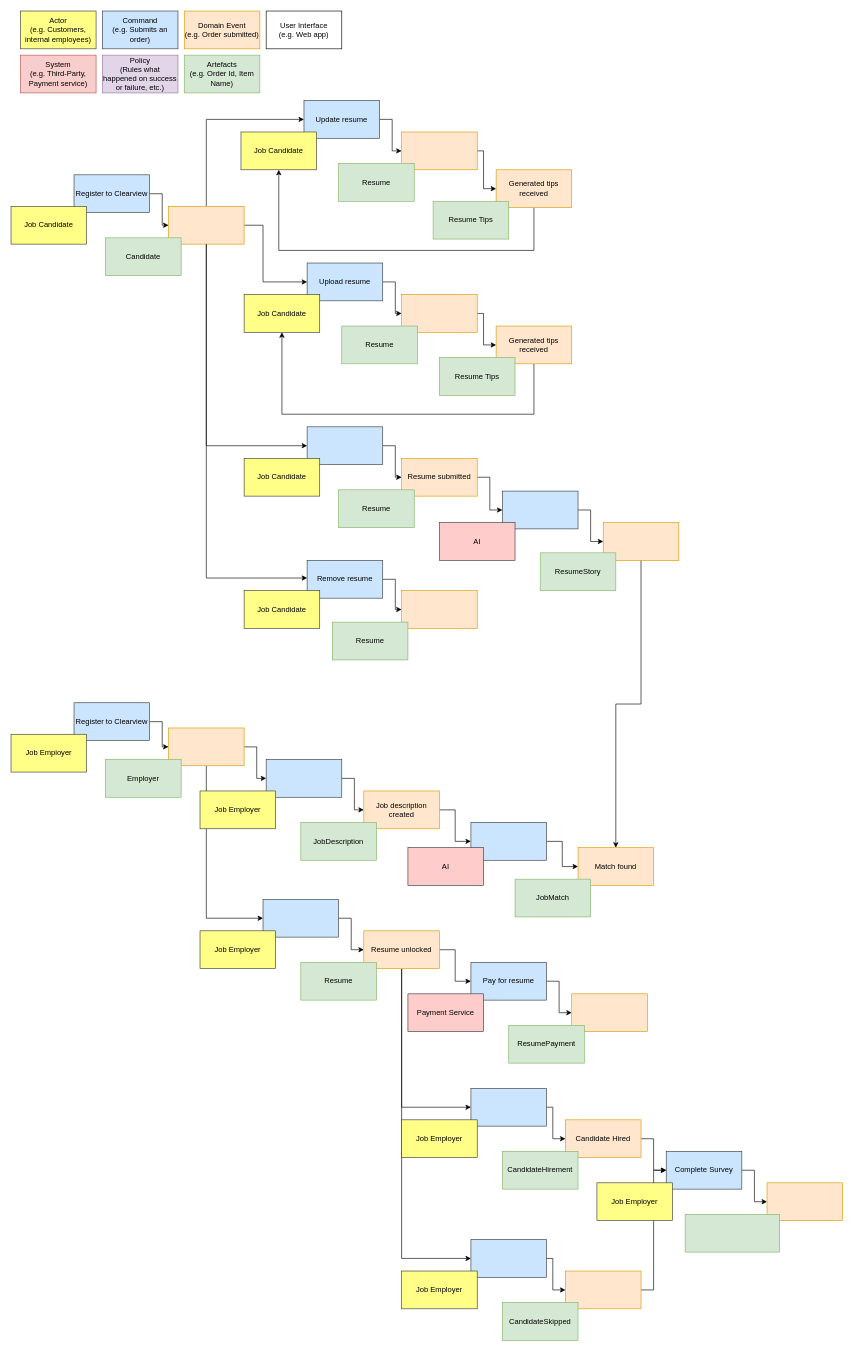
Some shapes in this 854 by 1351 pixel diagram are drawn without their labels. The shapes that lost their labels are listed below. From the top down, each one's centre as x and y in pixels, then its label:
At pixel 439 150: "Resume updated".
At pixel 206 225: "Candidate registered".
At pixel 439 313: "Resume uploaded".
At pixel 344 445: "Submit resume".
At pixel 540 509: "Anonymize & generate story".
At pixel 641 541: "anonymized & generated story".
At pixel 439 609: "Resume removed".
At pixel 206 746: "Employer registered".
At pixel 304 778: "Create open job description".
At pixel 508 841: "Find match".
At pixel 300 918: "Unlock resume".
At pixel 609 1012: "Paid for resume".
At pixel 508 1107: "Hire Candidate".
At pixel 804 1201: "Survey Completed".
At pixel 732 1233: "CandidateHirementSurvey".
At pixel 508 1258: "Skip Candidate".
At pixel 603 1289: "Candidate Skipped".
